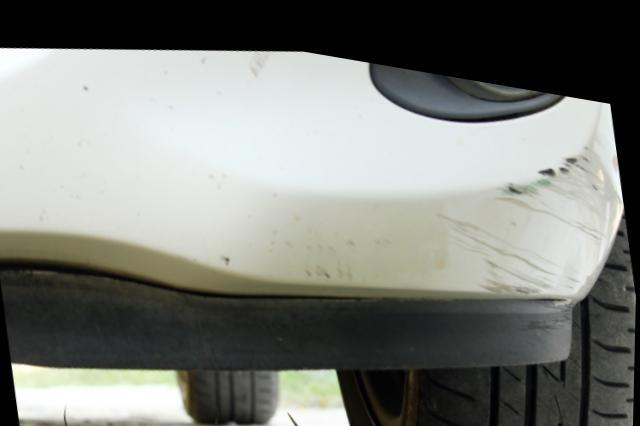scratch: (437, 125, 623, 280)
